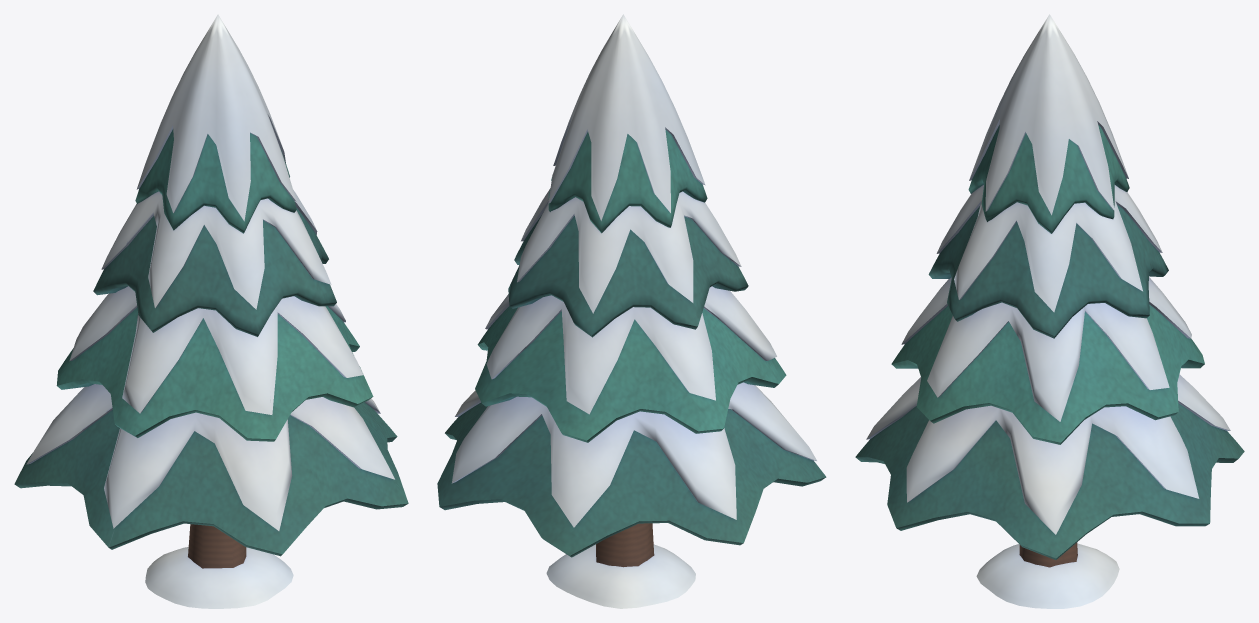
The model's file is FP_P01_SnowFir.fbx.
3 renders of one model, left to right at view 1: azimuth 30°, elevation 25°; view 2: azimuth 150°, elevation 25°; view 3: azimuth 270°, elevation 25°, orthographic.
Parts seen in each view (by area): view 1: Foliage_LOD0, Snow_LOD0, Trunk_LOD0; view 2: Foliage_LOD0, Snow_LOD0, Trunk_LOD0; view 3: Foliage_LOD0, Snow_LOD0, Trunk_LOD0.
Boxes of the visible parts, x1,y1,x2,y2 form: Foliage_LOD0: [14, 129, 408, 556]; Snow_LOD0: [26, 14, 394, 530]; Trunk_LOD0: [145, 524, 293, 608]; Foliage_LOD0: [437, 129, 826, 557]; Snow_LOD0: [451, 14, 816, 527]; Trunk_LOD0: [546, 523, 695, 608]; Foliage_LOD0: [855, 124, 1244, 559]; Snow_LOD0: [866, 14, 1230, 534]; Trunk_LOD0: [976, 542, 1119, 608].
Size of what is drawn, in the model's own units: 2.81 by 4.48 by 2.81.
